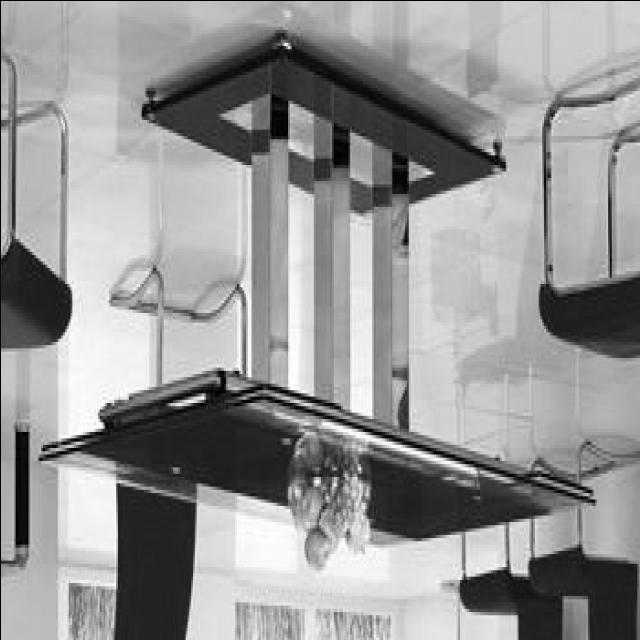chair: (106, 258, 248, 640), (530, 437, 637, 639), (455, 459, 562, 639)
table: (36, 32, 592, 550)
